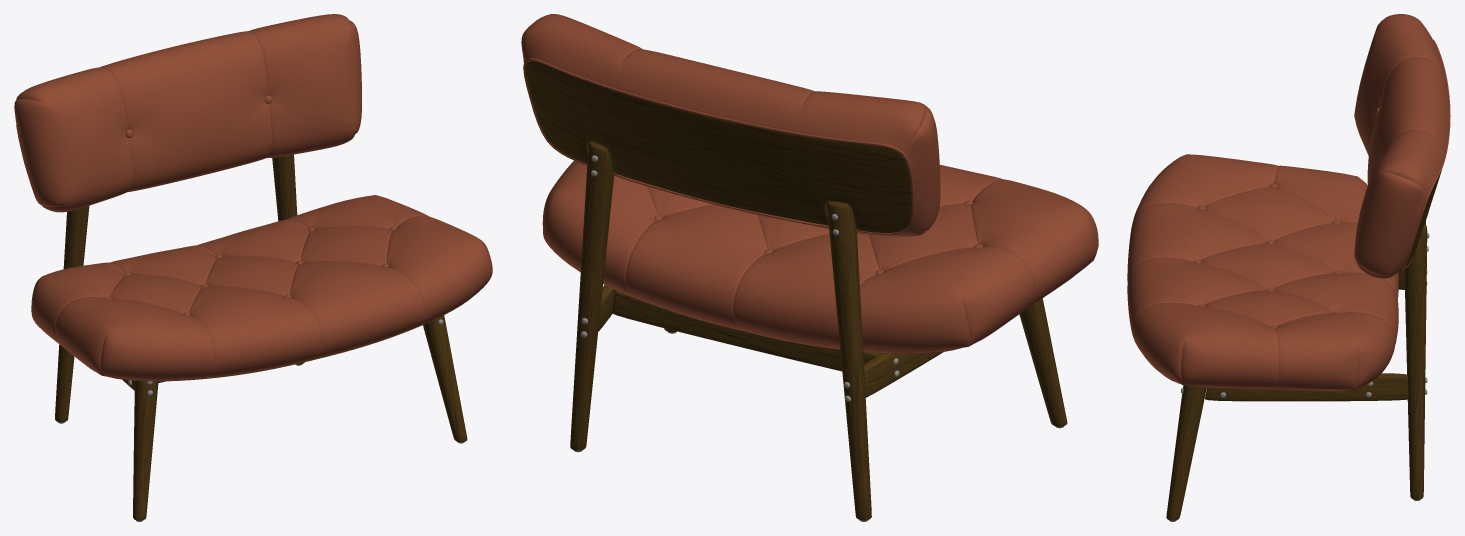
File: lounge.glb
3 renders of one model, left to right at view 1: azimuth 30°, elevation 25°; view 2: azimuth 150°, elevation 25°; view 3: azimuth 270°, elevation 25°, orthographic. The views are drawn at different scales.
Visible parts, largest first — view 1: SheenChair_fabric, SheenChair_wood; view 2: SheenChair_fabric, SheenChair_wood; view 3: SheenChair_fabric, SheenChair_wood.
Boxes of the visible parts, <box> form: SheenChair_fabric: <box>14,14,492,381</box>; SheenChair_wood: <box>55,154,467,520</box>; SheenChair_fabric: <box>521,14,1098,354</box>; SheenChair_wood: <box>525,61,1067,520</box>; SheenChair_fabric: <box>1127,14,1450,391</box>; SheenChair_wood: <box>1166,170,1441,520</box>.
Size of the model in its own units: 0.8266 by 0.6862 by 0.5703.
Materials: 4 (3 with a texture image).
